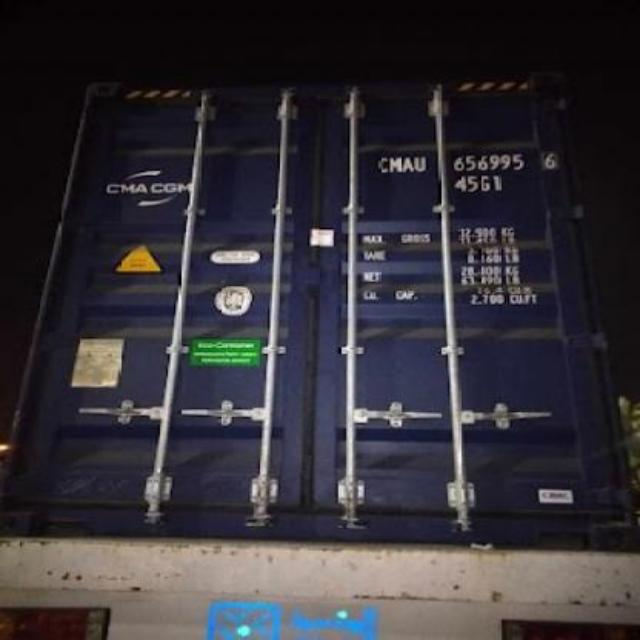5: (464, 154, 480, 172), (512, 154, 528, 170)
6: (450, 154, 466, 174), (544, 154, 556, 170), (476, 156, 488, 168)
9: (490, 153, 500, 171), (502, 154, 510, 168)
A: (402, 156, 414, 172)
C: (378, 158, 390, 172)
M: (388, 156, 402, 174)
U: (414, 154, 426, 172)
